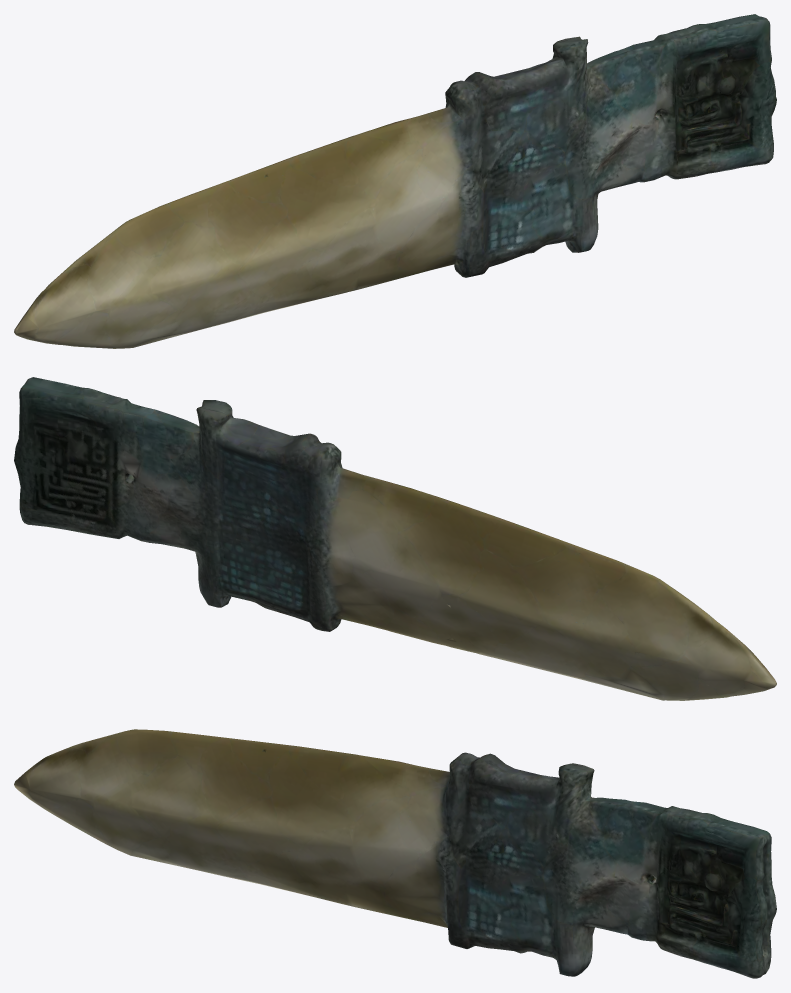
File: turquoise-ge-overview.glb
The picture shows the model from 3 angles, top to bottom: view 1: azimuth 30°, elevation 25°; view 2: azimuth 150°, elevation 25°; view 3: azimuth 330°, elevation 25°; orthographic projection.
Visible parts, largest first — view 1: node_0; view 2: node_0; view 3: node_0.
Part boxes in pixels (x1,y1,x2,y2): node_0: [14, 14, 776, 348]; node_0: [14, 377, 776, 700]; node_0: [14, 729, 776, 978].
Bounding box in the file's own units: 1.19 × 0.3096 × 0.0715.
1 material, 1 textured.
